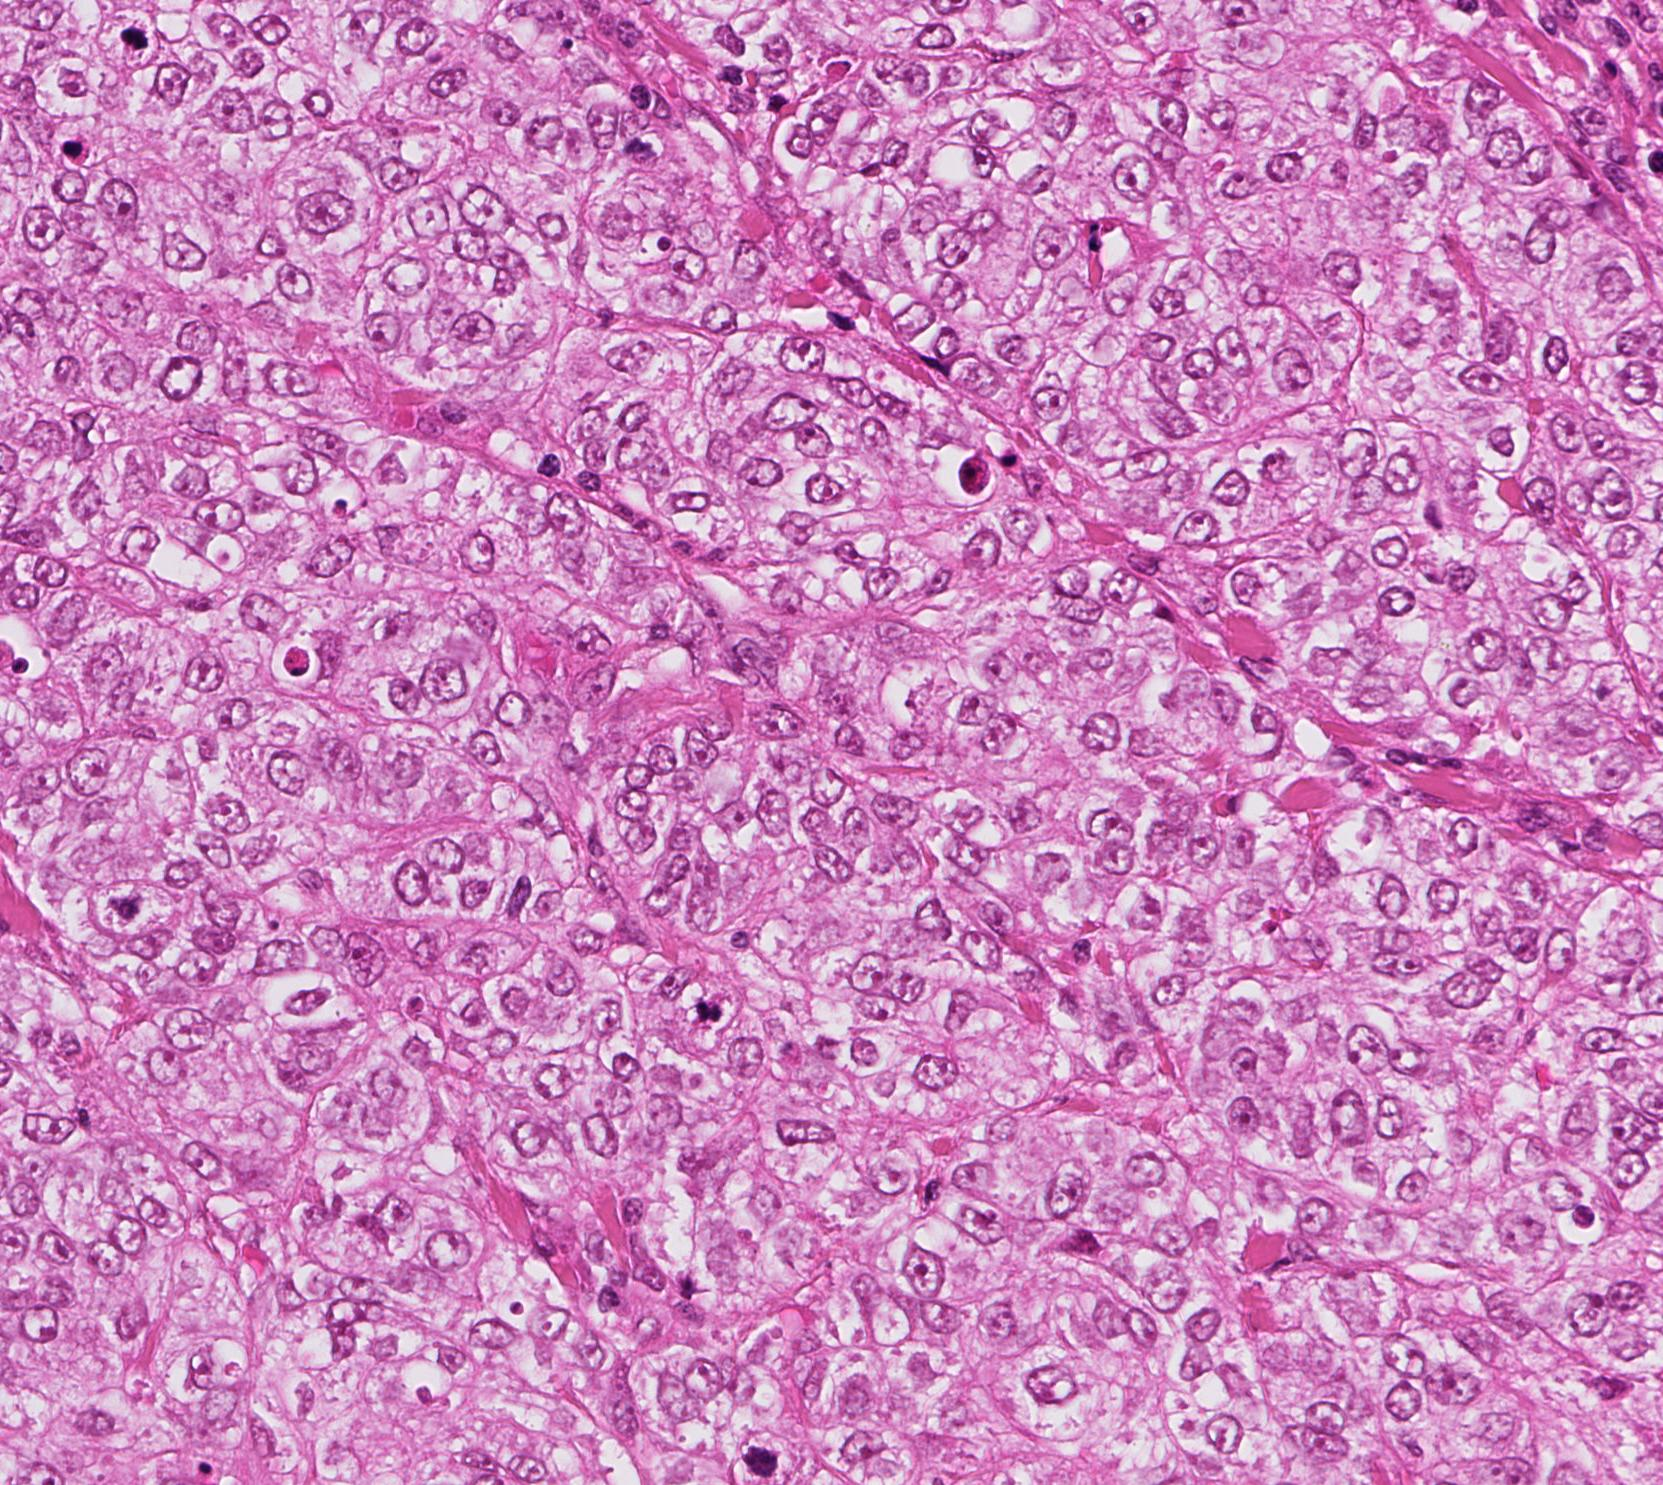mitosis: (100, 874, 161, 935), (727, 1426, 787, 1485)
